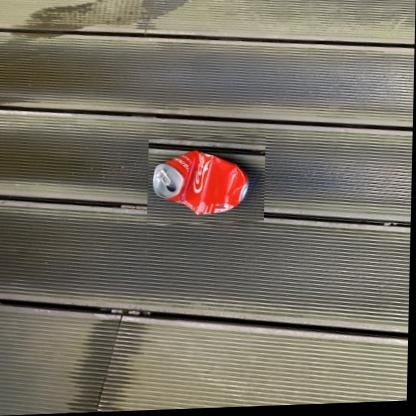trash: (153, 150, 247, 214)
